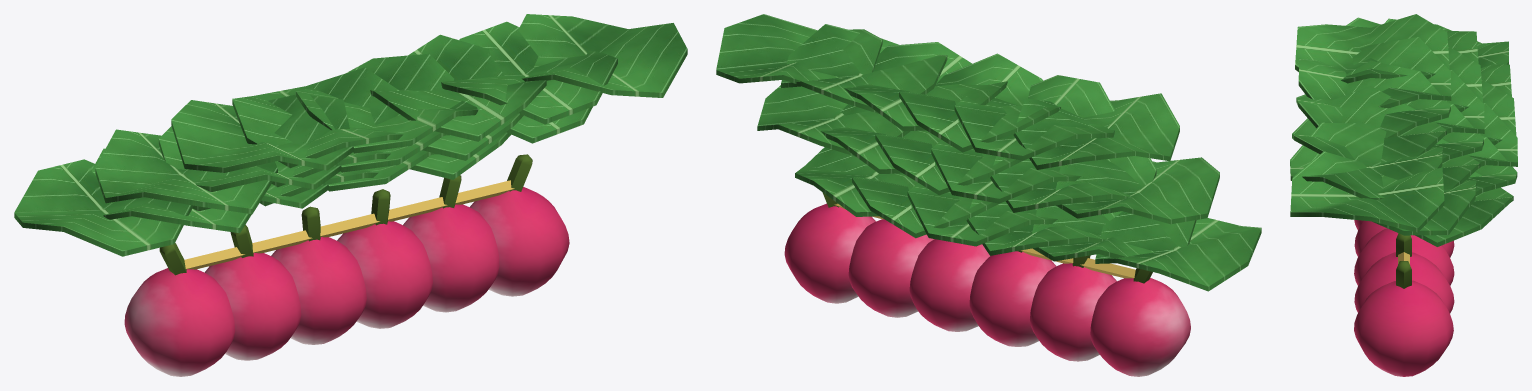
Rendered from veg_radish_bunch.glb.
The picture shows the model from 3 angles, left to right: view 1: azimuth 30°, elevation 25°; view 2: azimuth 150°, elevation 25°; view 3: azimuth 270°, elevation 25°; orthographic projection. The views are drawn at different scales.
Visible parts, largest first — view 1: veg_radish_bunch; view 2: veg_radish_bunch; view 3: veg_radish_bunch.
Boxes of the visible parts, x1,y1,x2,y2 form: veg_radish_bunch: [14, 14, 687, 376]; veg_radish_bunch: [716, 14, 1261, 376]; veg_radish_bunch: [1290, 14, 1517, 376].
Bounding box in the file's own units: 0.1849 × 0.0727 × 0.0684.
4 materials, 2 textured.
